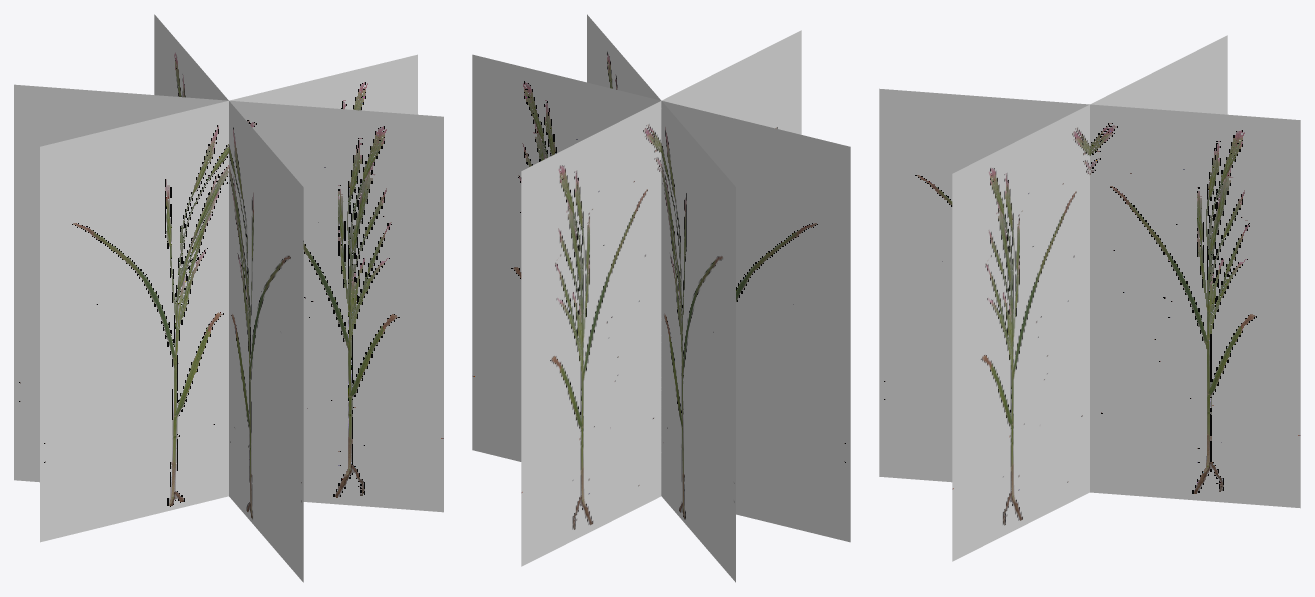
File: folliage.glb
3 renders of one model, left to right at view 1: azimuth 30°, elevation 25°; view 2: azimuth 150°, elevation 25°; view 3: azimuth 270°, elevation 25°, orthographic.
Visible parts, largest first — view 1: folliage; view 2: folliage; view 3: folliage.
Boxes of the visible parts, box(x1,y1,x2,y2) form: folliage: box(14, 14, 443, 582); folliage: box(472, 14, 850, 582); folliage: box(879, 35, 1300, 561).
Bounding box in the file's own units: 2 × 2 × 1.97.
Materials: 1 (1 with a texture image).
